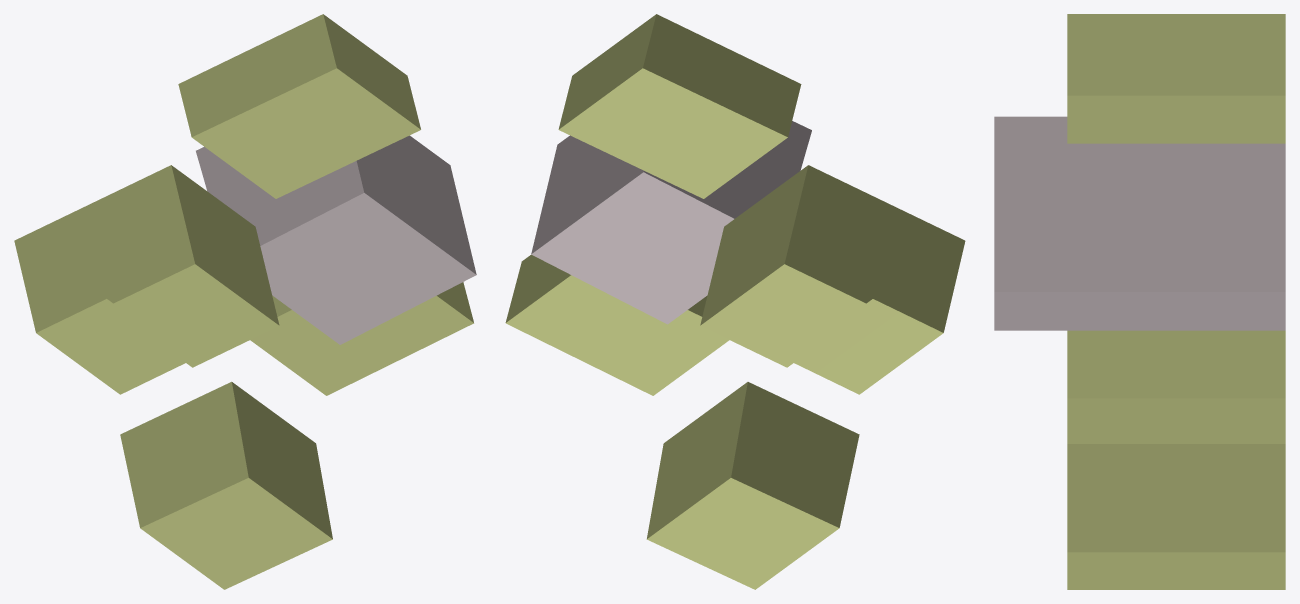
The picture shows the model from 3 angles, left to right: view 1: azimuth 30°, elevation 25°; view 2: azimuth 150°, elevation 25°; view 3: azimuth 270°, elevation 25°; orthographic projection. The views are drawn at different scales.
Visible parts, largest first — view 1: 0_1_2_0_3_3_0_3_1_3; view 2: 0_1_2_0_3_3_0_3_1_3; view 3: 0_1_2_0_3_3_0_3_1_3.
Part boxes in pixels (bbox=[...]): 0_1_2_0_3_3_0_3_1_3: bbox=[14, 14, 476, 589]; 0_1_2_0_3_3_0_3_1_3: bbox=[505, 14, 965, 589]; 0_1_2_0_3_3_0_3_1_3: bbox=[994, 14, 1285, 589].
Size of the model in its own units: 23.15 by 27.65 by 12.
